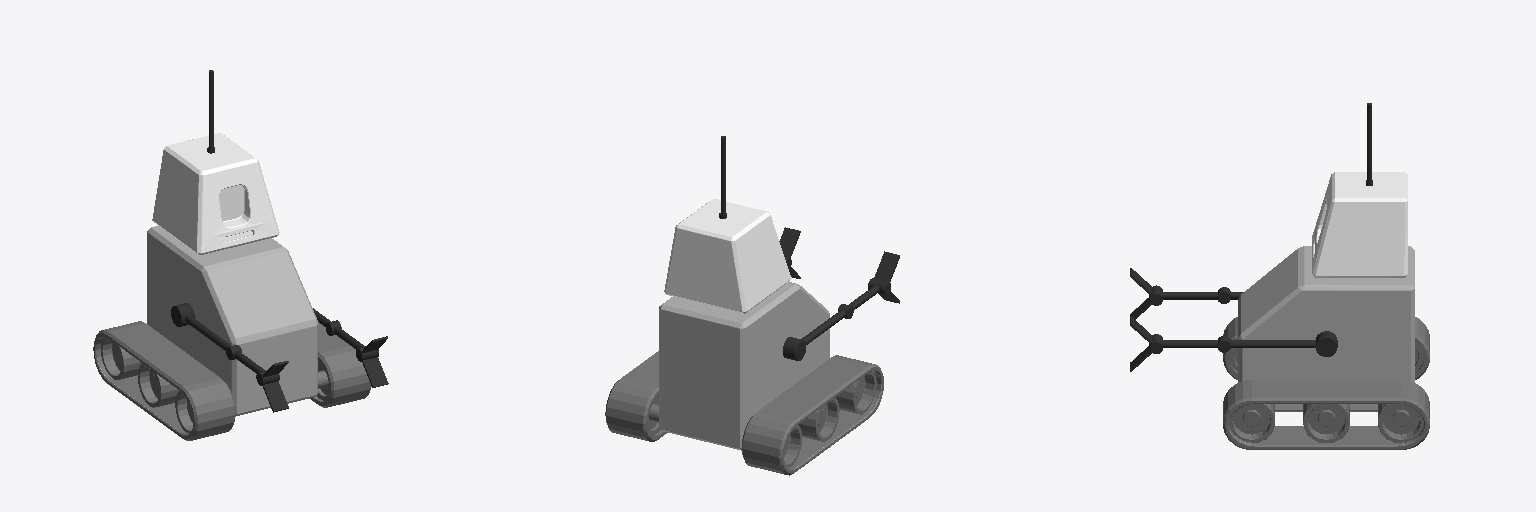
3 renders of one model, left to right at view 1: azimuth 30°, elevation 25°; view 2: azimuth 150°, elevation 25°; view 3: azimuth 270°, elevation 25°, orthographic.
Parts seen in each view (by area): view 1: pCube7; view 2: pCube7; view 3: pCube7.
Boxes of the visible parts, x1=… form: pCube7: x1=93, y1=70, x2=388, y2=440; pCube7: x1=605, y1=136, x2=899, y2=475; pCube7: x1=1130, y1=103, x2=1429, y2=449.
Bounding box in the file's own units: 11.55 × 18.93 × 16.98.
Materials: 1 (1 with a texture image).